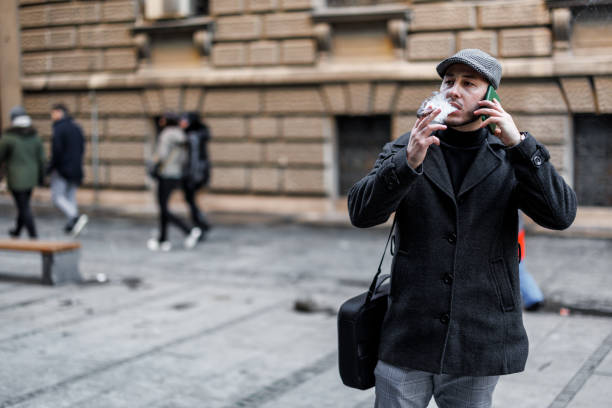cigarette: (416, 107, 437, 118)
